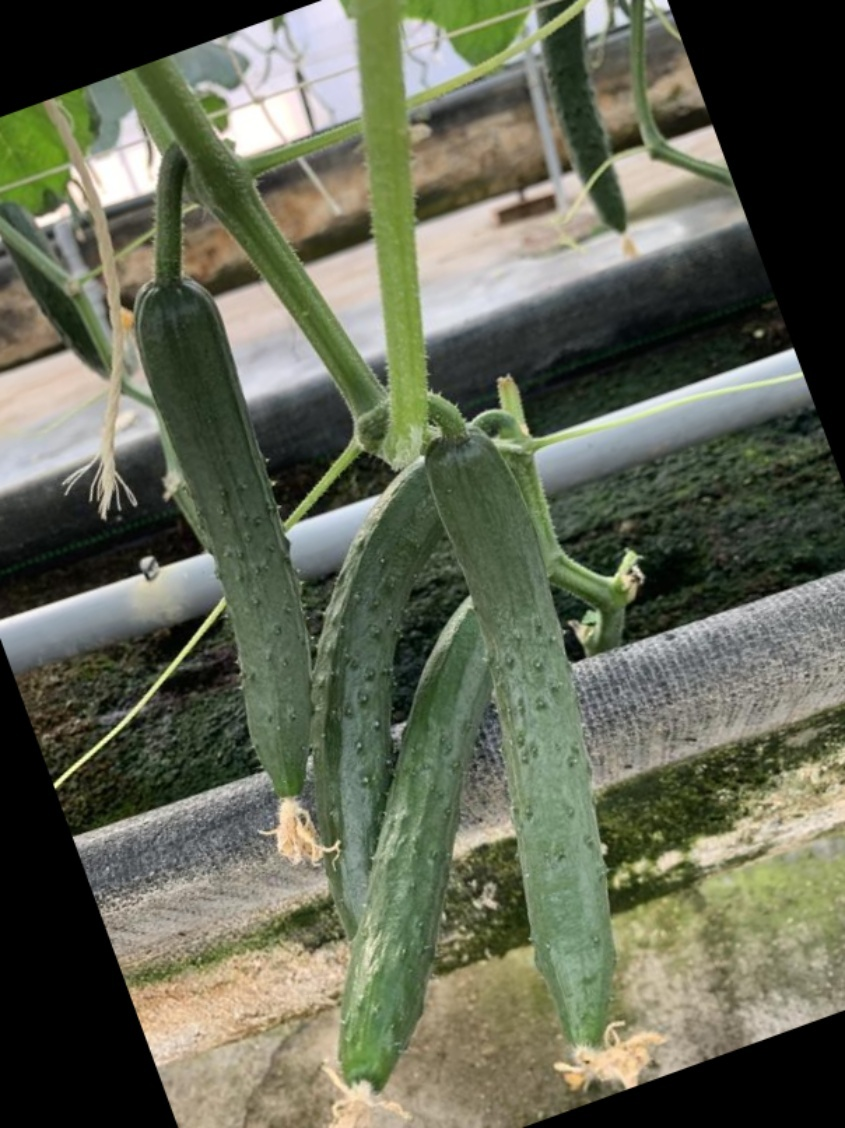mature: (330, 590, 481, 1092), (312, 445, 450, 950)
